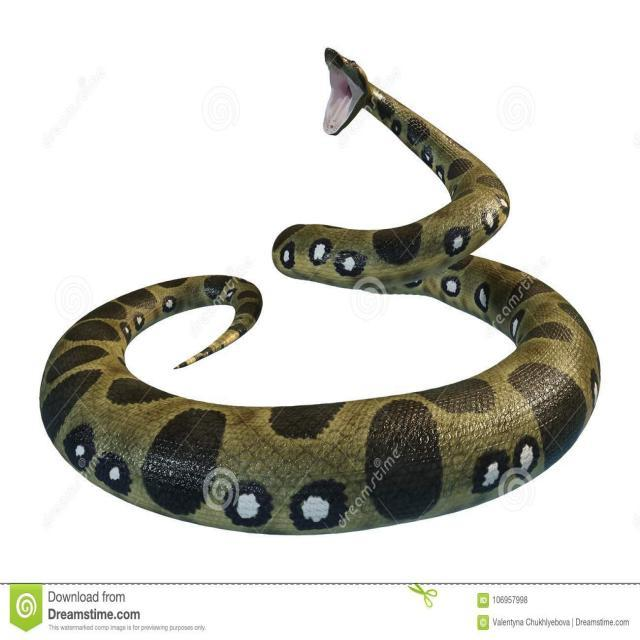Snake: (0, 39, 588, 554)
